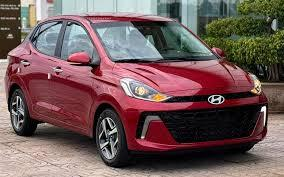hyundai: (204, 92, 225, 105)
